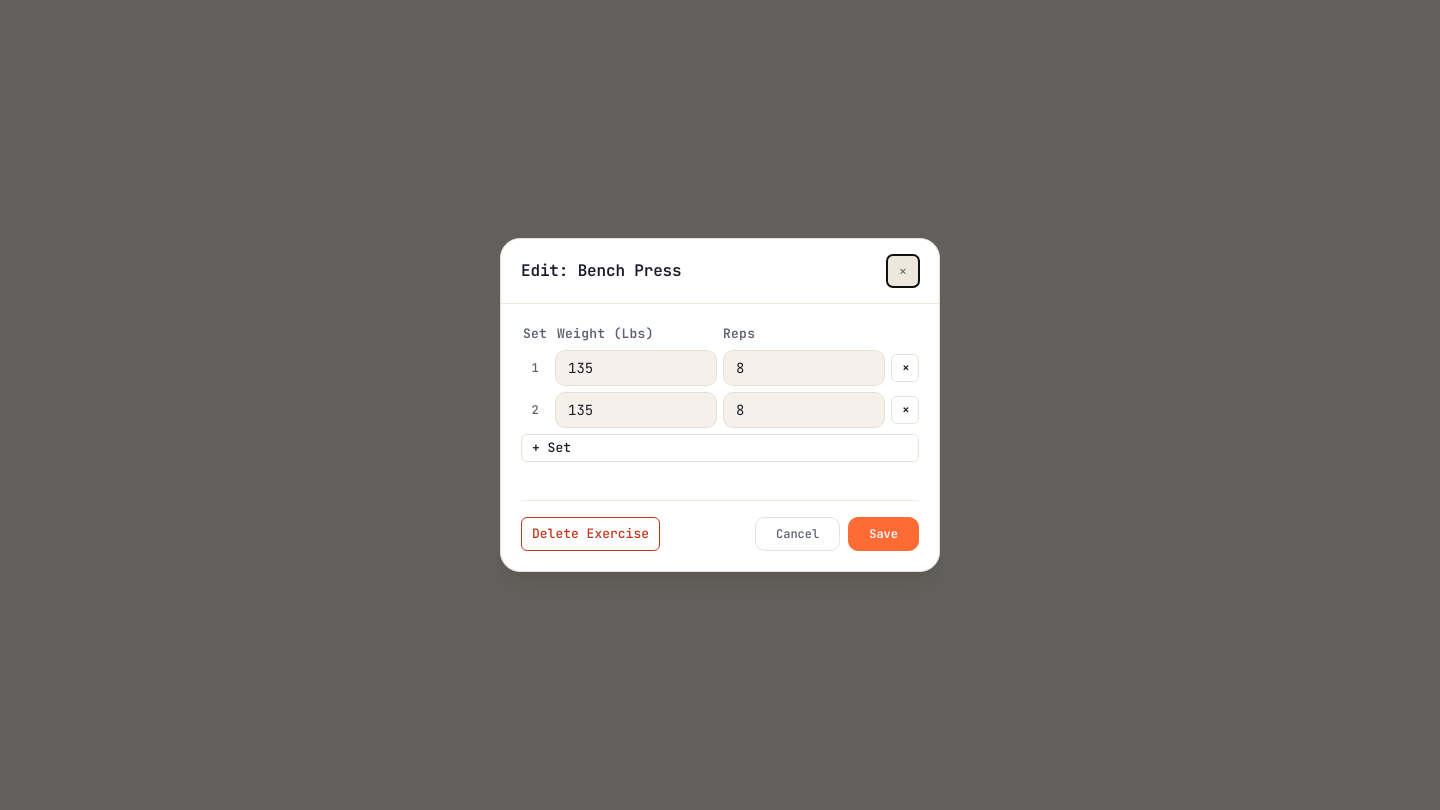
Scenario: EditExerciseModal › Save shows error on failure
The image size is (1440, 810).
Step 1. Click the button "Save" → (884, 534), box [848,517,919,551]
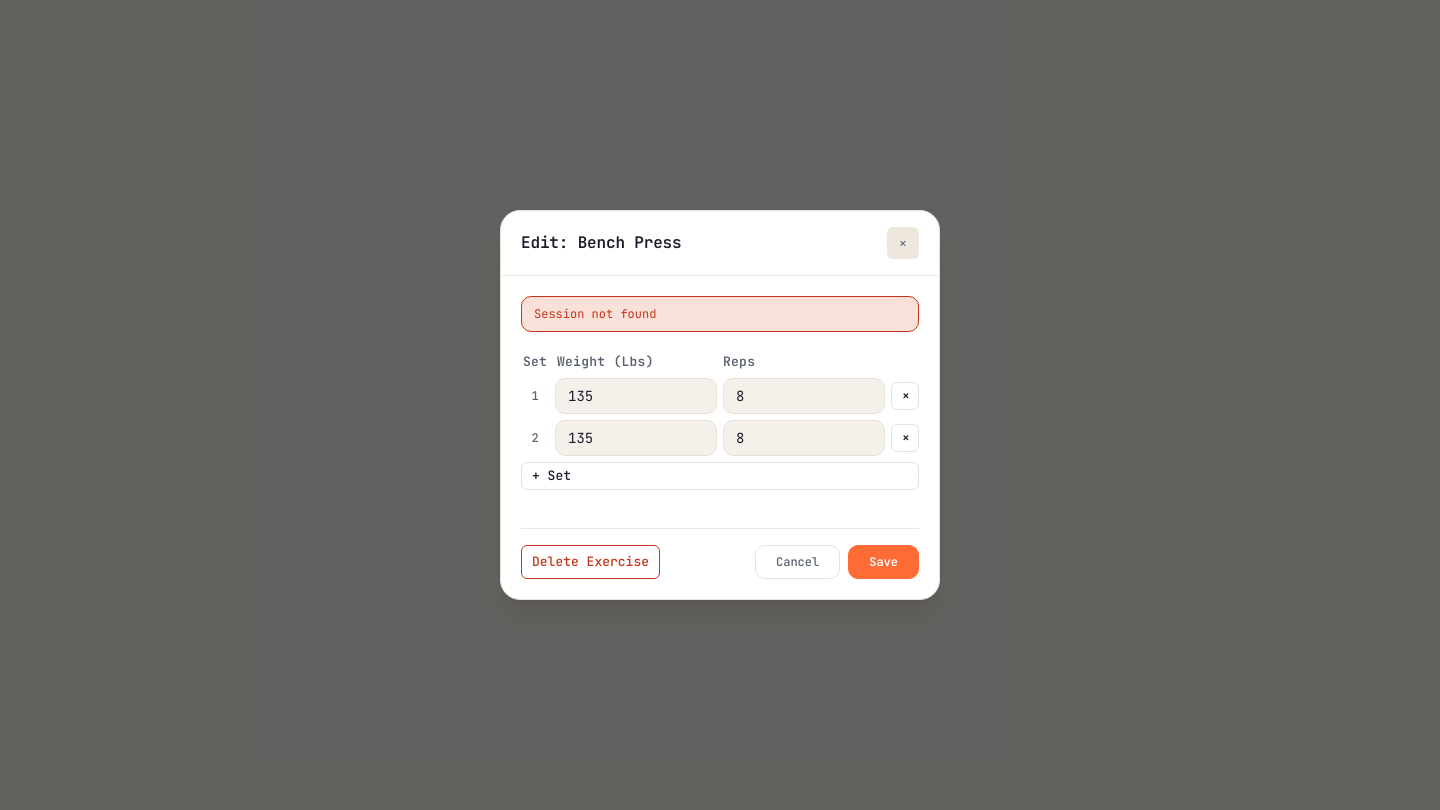
Check: the text "Session not found" is shown, box [521,296,919,332]
